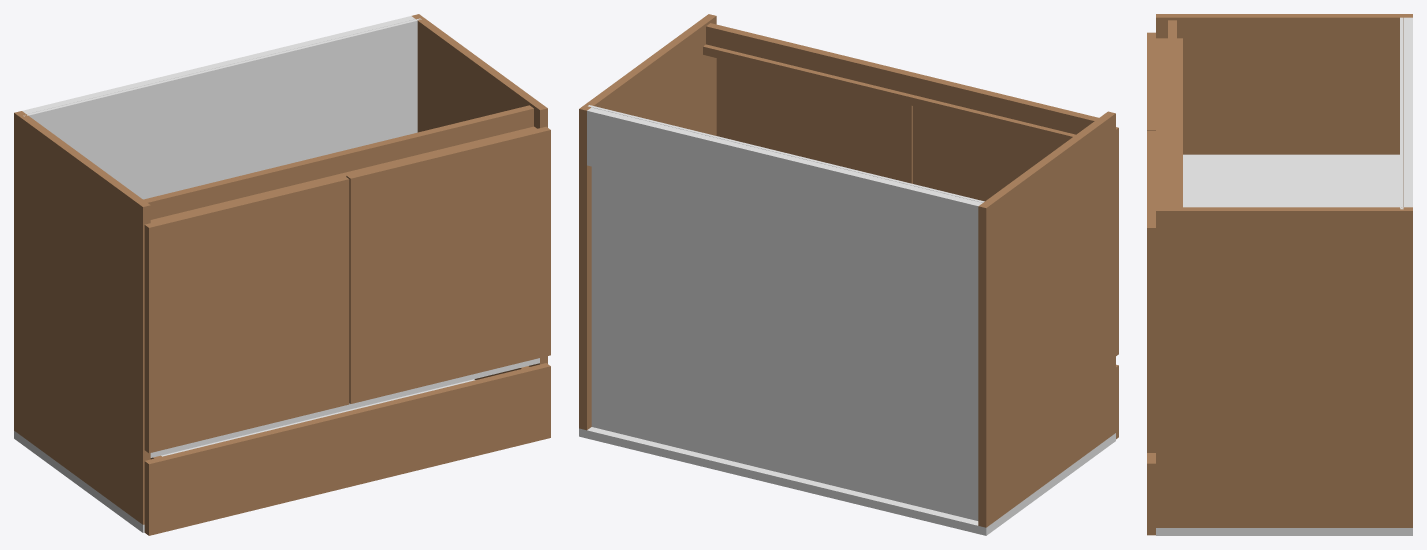
The model's file is proyecto.glb.
The picture shows the model from 3 angles, left to right: view 1: azimuth 30°, elevation 25°; view 2: azimuth 150°, elevation 25°; view 3: azimuth 270°, elevation 25°; orthographic projection.
Visible parts, largest first — view 1: P016, P007, P010, P015, P003, P008, P005, P012, P009, P006, P017, P002; view 2: P015, P010, P009, P007, P005, P016, P008, P017, P006; view 3: P005, P010, P011, P006, P007, P017, P009, P008, P016, P015, P003.
Boxes of the visible parts, x1,y1,x2,y2 form: P016: (144, 176, 349, 453); P007: (346, 126, 550, 403); P010: (14, 111, 150, 524); P015: (23, 18, 421, 199); P003: (144, 363, 550, 535); P008: (143, 105, 533, 219); P005: (412, 14, 547, 366); P012: (150, 358, 539, 457); P009: (22, 16, 415, 114); P006: (150, 126, 536, 222); P017: (14, 431, 144, 532); P002: (161, 379, 475, 456); P015: (588, 105, 984, 520); P010: (978, 111, 1115, 527); P009: (587, 107, 982, 260); P007: (716, 58, 912, 183); P005: (579, 14, 716, 430); P016: (913, 106, 1118, 355); P008: (706, 23, 1098, 134); P017: (579, 427, 1115, 535); P006: (703, 44, 1075, 142); P005: (1156, 207, 1412, 527); P010: (1156, 14, 1412, 206); P011: (1183, 154, 1399, 207); P006: (1156, 38, 1182, 207); P007: (1147, 130, 1155, 452); P017: (1156, 528, 1412, 535); P009: (1404, 17, 1412, 207); P008: (1168, 20, 1176, 207); P016: (1147, 32, 1155, 130); P015: (1400, 17, 1403, 209); P003: (1147, 453, 1155, 535).
Bounding box in the file's own units: 0.78 × 0.6 × 0.445.
